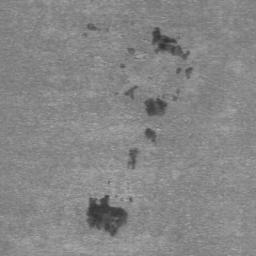Iron scale compression: (87, 195, 128, 236), (151, 27, 190, 58), (144, 97, 168, 117), (127, 148, 138, 170), (144, 128, 157, 145), (175, 66, 191, 77), (86, 23, 100, 32), (123, 87, 134, 96), (126, 47, 135, 56)
